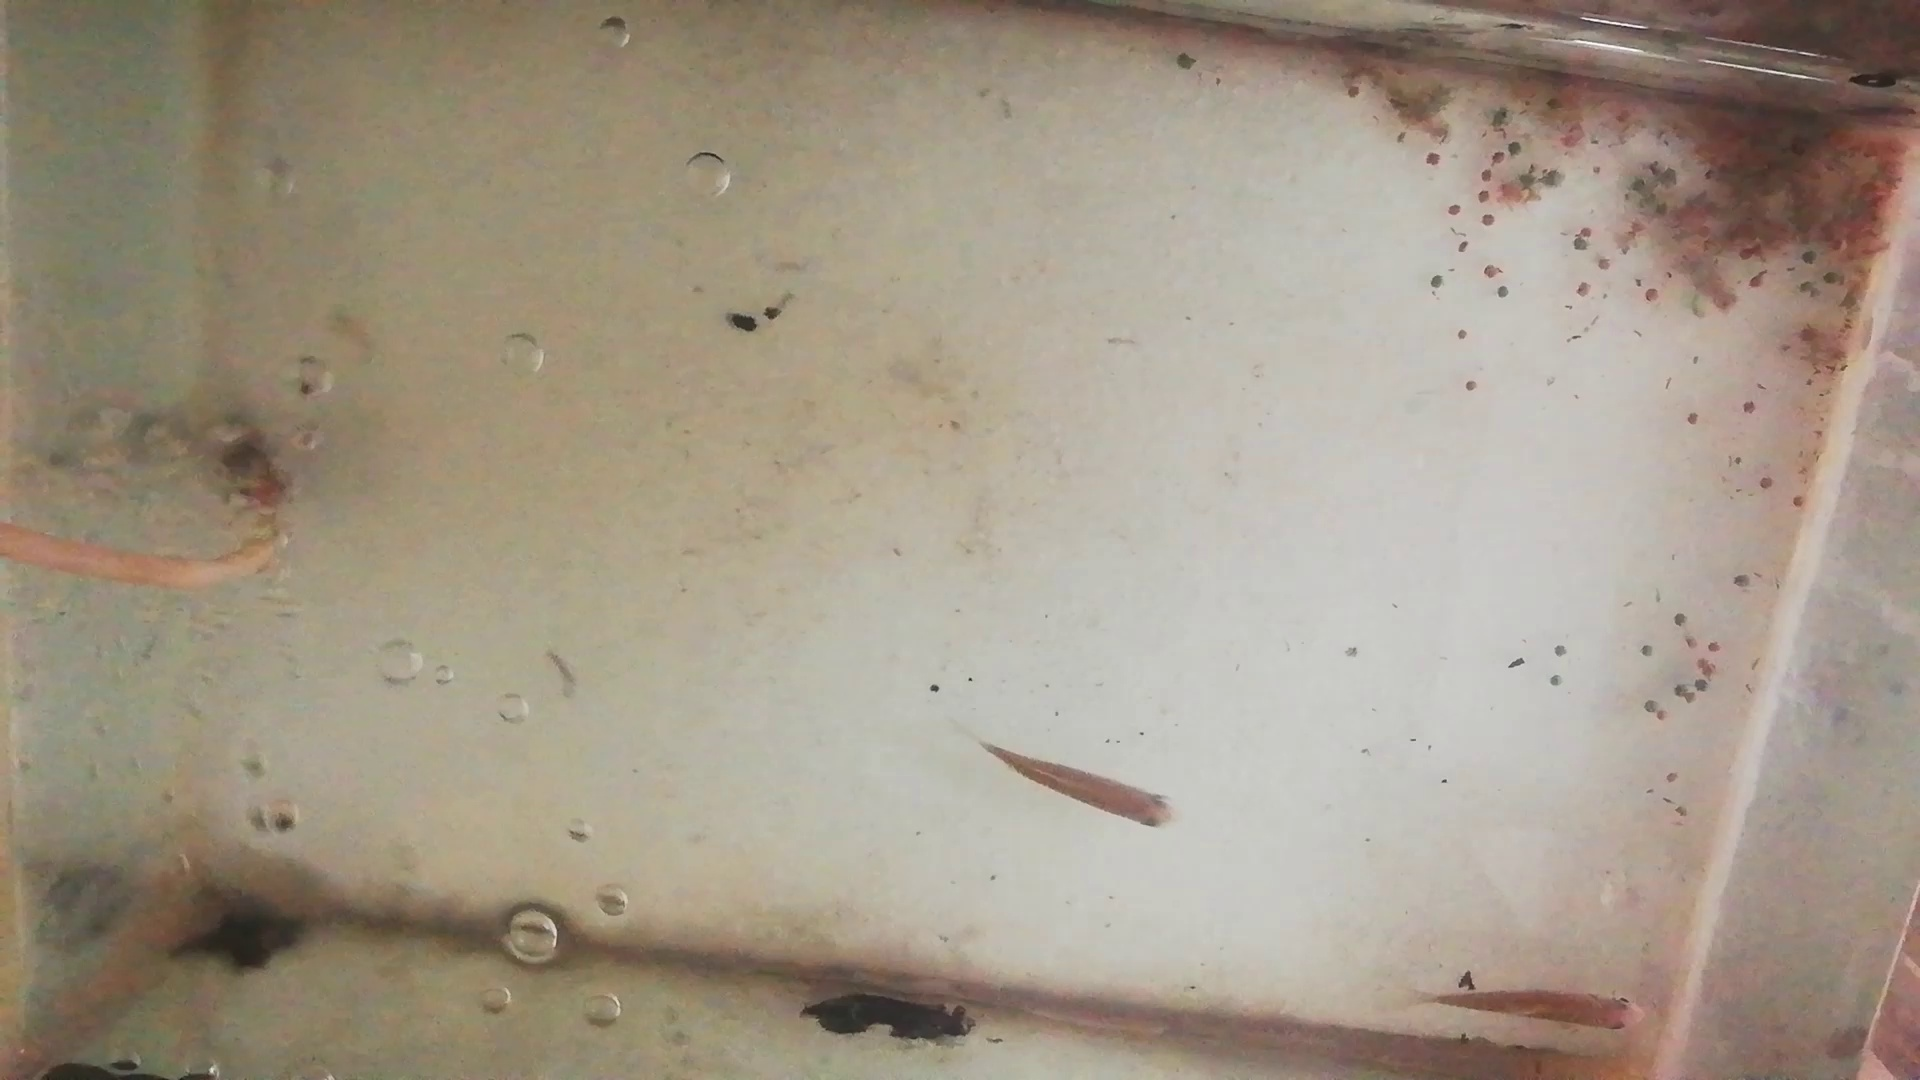fish: (986, 746, 1179, 829), (1440, 986, 1647, 1036)
